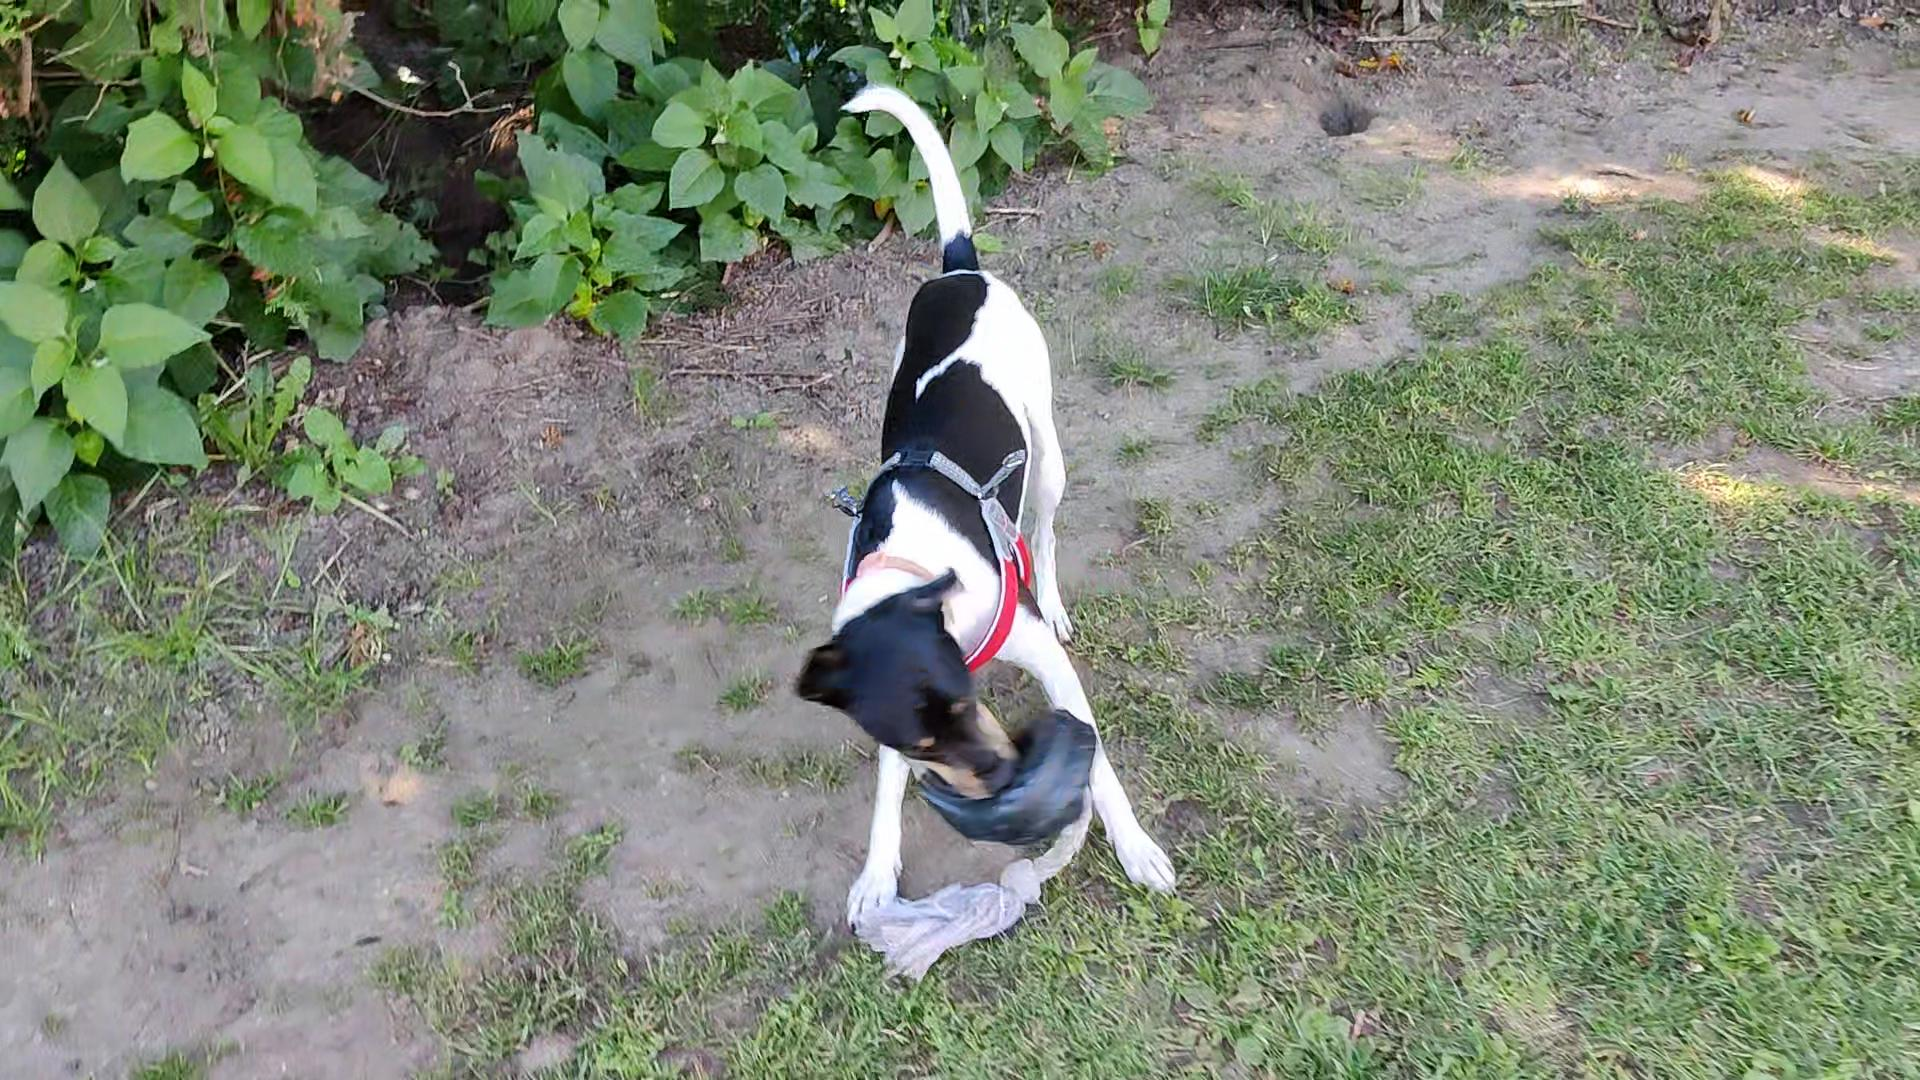Dog: (756, 79, 1217, 961)
